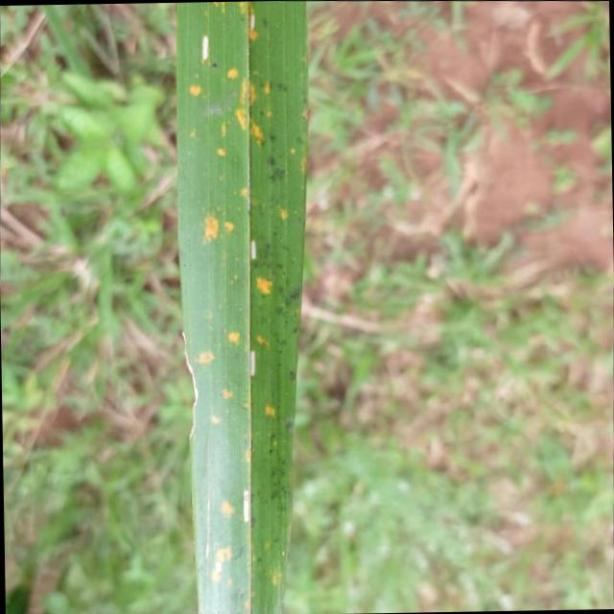Kalium: (176, 0, 307, 614)
